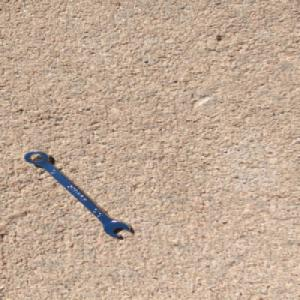Wrench: (22, 149, 133, 239)
